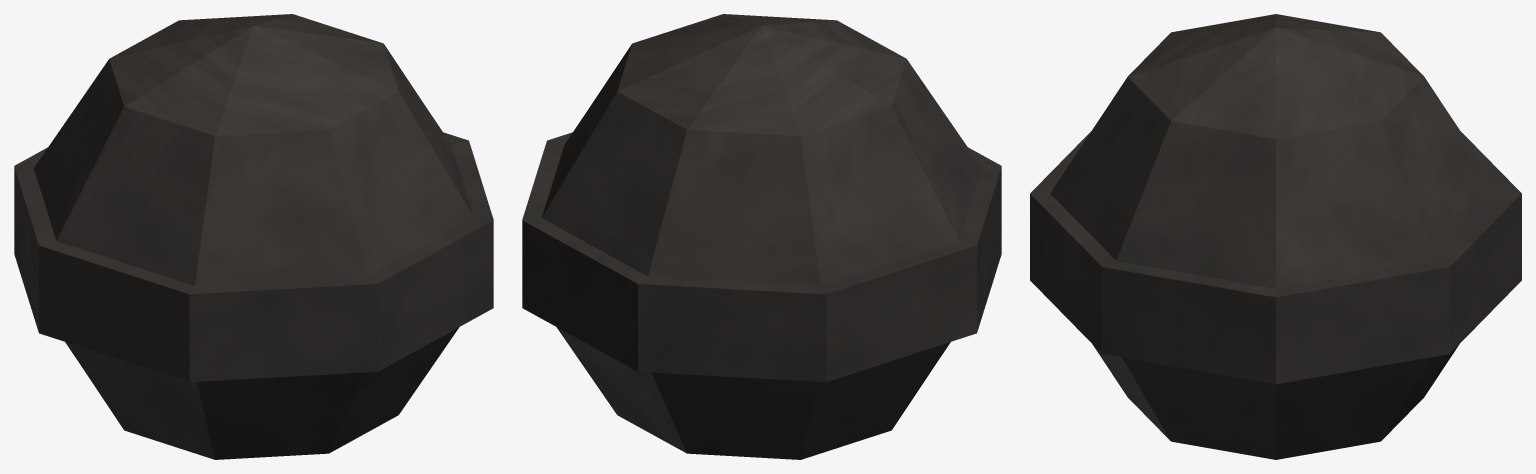
3 views of the same model, side by side, from view 1: azimuth 30°, elevation 25°; view 2: azimuth 150°, elevation 25°; view 3: azimuth 270°, elevation 25° (orthographic).
Parts seen in each view (by area): view 1: cluster_bomb; view 2: cluster_bomb; view 3: cluster_bomb.
Part boxes in pixels (x1,y1,x2,y2): cluster_bomb: (14,14,493,459); cluster_bomb: (522,14,1001,459); cluster_bomb: (1030,14,1521,459).
Bounding box in the file's own units: 0.294 × 0.276 × 0.294.
Materials: 1 (1 with a texture image).
